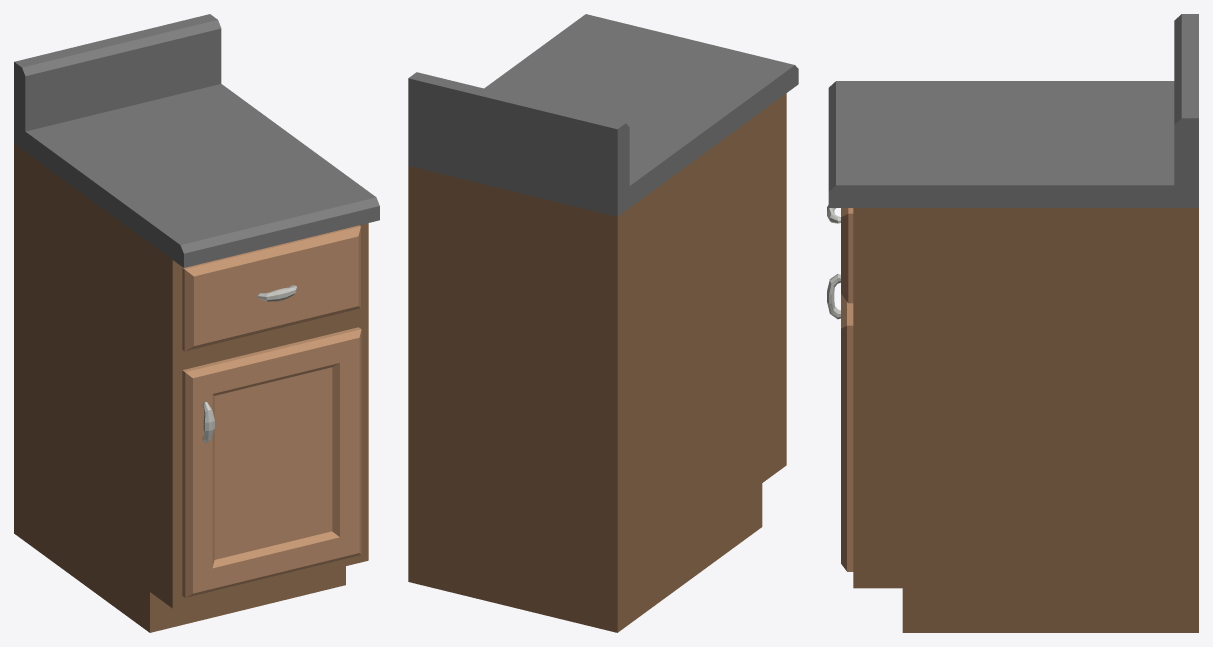
Rendered from Kitchen_Cabinet_Base_Half.obj.
3 renders of one model, left to right at view 1: azimuth 30°, elevation 25°; view 2: azimuth 150°, elevation 25°; view 3: azimuth 270°, elevation 25°, orthographic. The views are drawn at different scales.
Visible parts, largest first — view 1: object2, object4, object1, object3; view 2: object2, object4; view 3: object2, object4, object1, object3.
Part boxes in pixels (x1,y1,x2,y2): object2: (14,144,368,632); object4: (14,14,379,267); object1: (182,327,361,597); object3: (182,225,360,351); object2: (408,93,786,632); object4: (408,14,798,216); object2: (853,208,1198,632); object4: (828,14,1198,207); object1: (841,294,853,571); object3: (827,205,853,303).
Size of the model in its own units: 0.5 by 1.15 by 0.7531.
